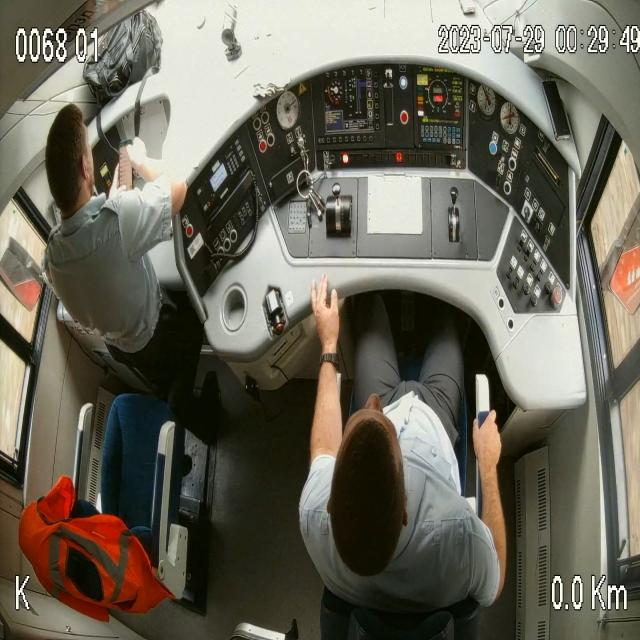smartphone: (116, 137, 144, 193)
